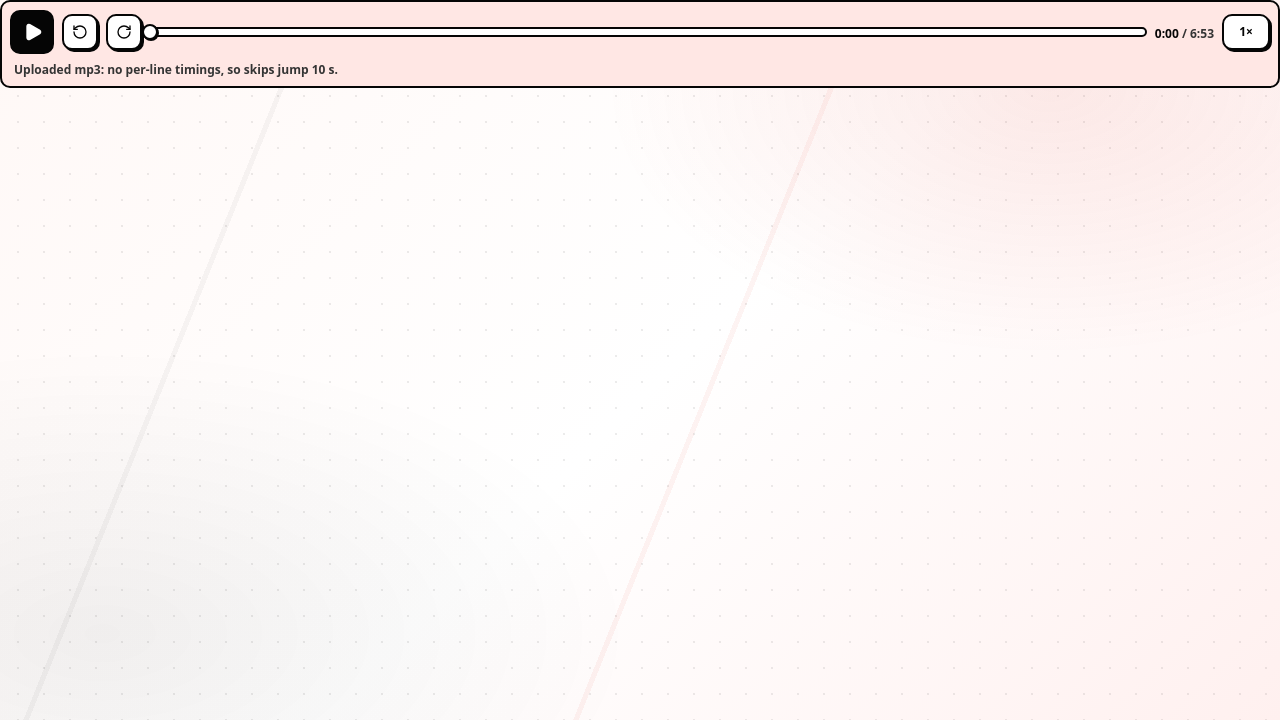
Test: AdminAudioPlayer › falls back to 10 second skips for an uploaded mp3
Click the button named "Forward 10 seconds" at (124, 32), box [106,14,142,50]
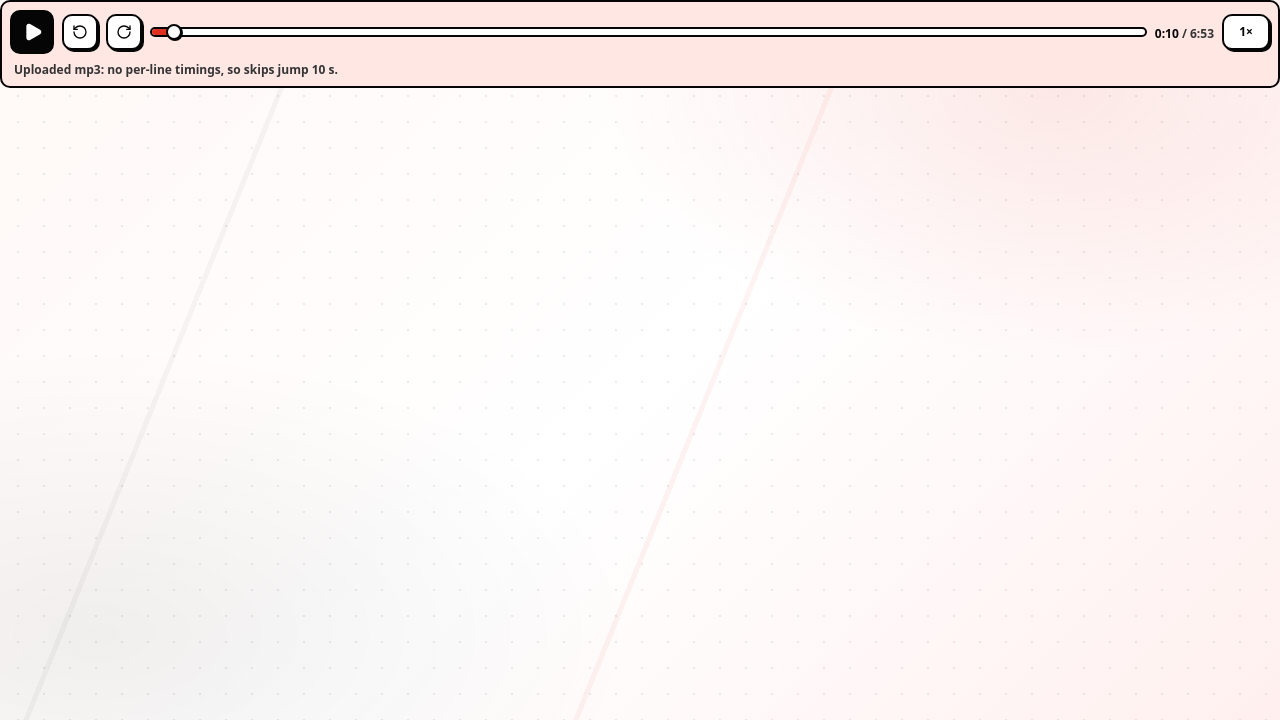
Check: the text "0:10" is shown, box [1155,25,1179,42]
